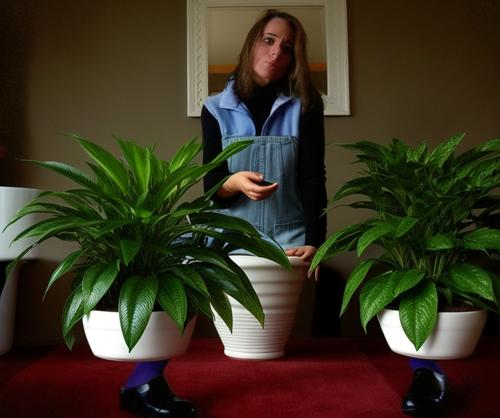person: (118, 8, 450, 418)
person/foot: (119, 379, 195, 417), (402, 368, 450, 413)
person/hand: (256, 243, 277, 312), (275, 244, 296, 312)
person/head: (250, 13, 298, 79)
pottedplant: (1, 134, 500, 362)
